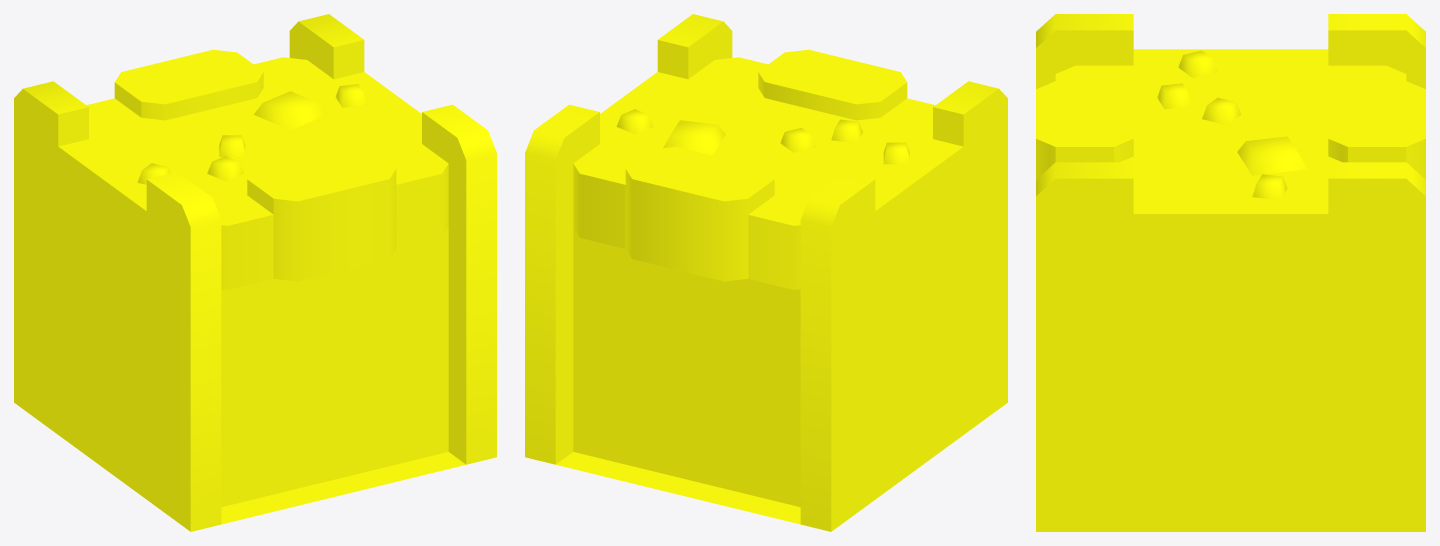
The model's file is 围墙门楼_围墙_窄墙.glb.
3 views of the same model, side by side, from view 1: azimuth 30°, elevation 25°; view 2: azimuth 150°, elevation 25°; view 3: azimuth 270°, elevation 25° (orthographic). The views are drawn at different scales.
Visible parts, largest first — view 1: wall-narrow; view 2: wall-narrow; view 3: wall-narrow.
Part boxes in pixels (x1,y1,x2,y2): wall-narrow: (14,14,496,531); wall-narrow: (525,14,1007,531); wall-narrow: (1036,14,1425,531).
Size of the model in its own units: 1 by 1 by 1.
Materials: 1 (1 with a texture image).
